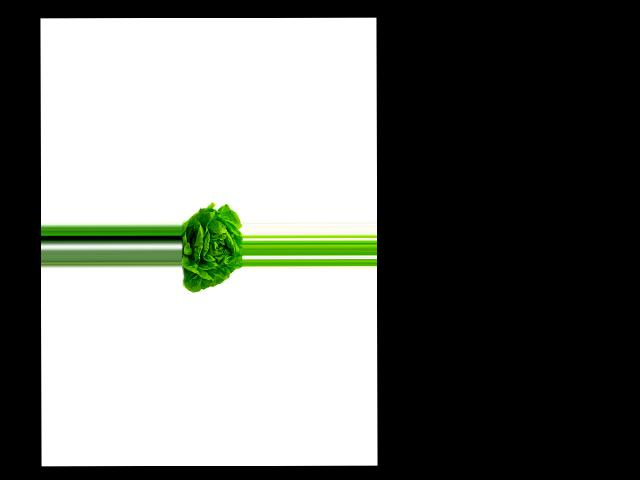lettuce: (180, 206, 242, 293)
